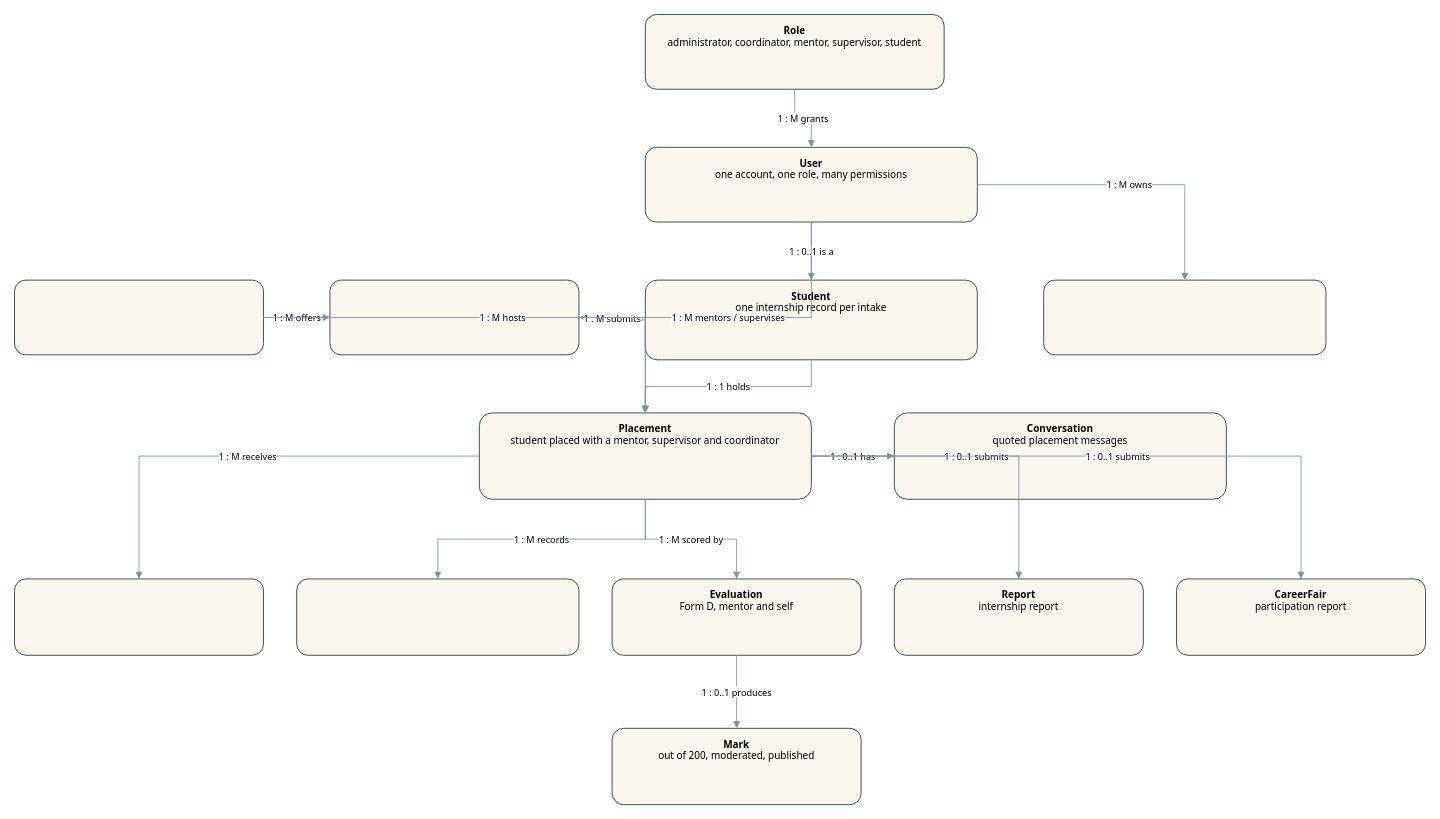
Some shapes in this 1440 by 819 pixel diagram are drawn without their labels. Each missing label, with the centre of its shape:
"Application ranked preference" belongs at (x=454, y=317).
"DivaChat assistant history per account" belongs at (x=1184, y=317).
"LogbookEntry weekly log across twelve weeks" belongs at (x=437, y=616).
"Organisation host company and capacity" belongs at (x=139, y=317).
"SiteVisit mentor visit and findings" belongs at (x=139, y=616).
